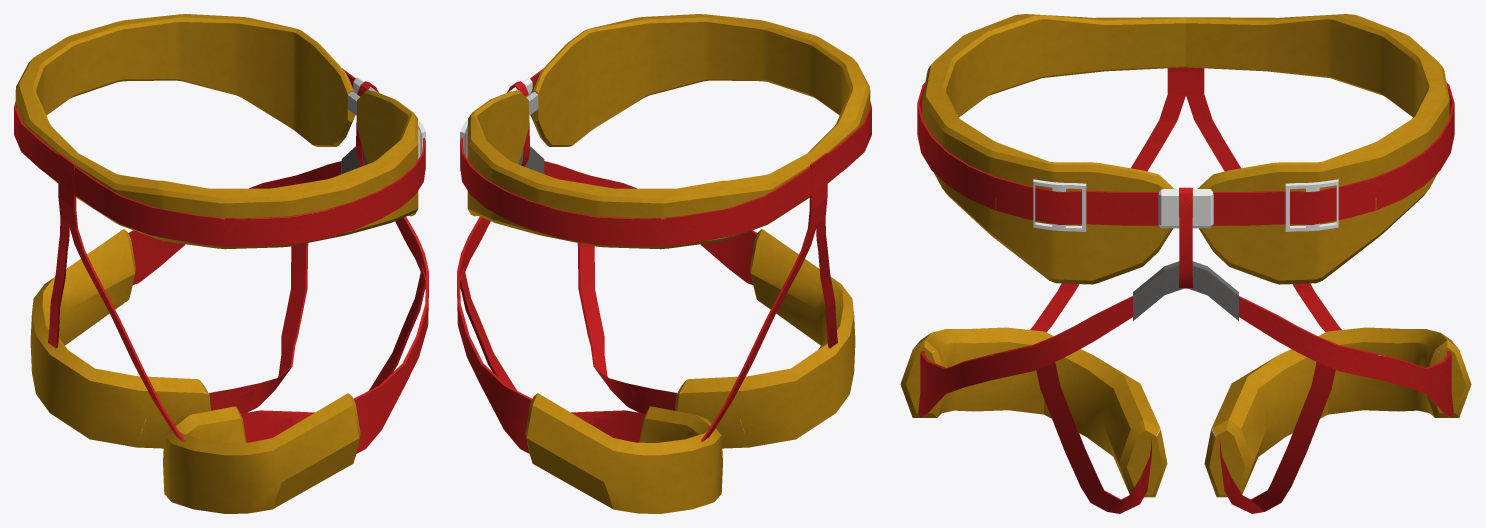
The model's file is Harness.fbx.
The picture shows the model from 3 angles, left to right: view 1: azimuth 30°, elevation 25°; view 2: azimuth 150°, elevation 25°; view 3: azimuth 270°, elevation 25°; orthographic projection. The views are drawn at different scales.
Parts seen in each view (by area): view 1: Cube, Torus.001, Cube.002, Cube.008, Cube.007, Plane; view 2: Cube, Torus.001, Cube.002, Cube.008, Cube.007, Plane; view 3: Cube, Torus.001, Cube.002, Cube.007, Cube.008, Plane, Cube.005, Cube.003, Cube.001, Torus.
Part boxes in pixels (left/top/right/bottom): Cube: left=15, top=14, right=418, bottom=249; Torus.001: left=30, top=229, right=360, bottom=513; Cube.002: left=14, top=68, right=425, bottom=246; Cube.008: left=209, top=183, right=425, bottom=442; Cube.007: left=128, top=161, right=428, bottom=453; Plane: left=48, top=153, right=184, bottom=441; Cube: left=467, top=14, right=870, bottom=249; Torus.001: left=525, top=229, right=855, bottom=513; Cube.002: left=460, top=68, right=871, bottom=246; Cube.008: left=460, top=183, right=676, bottom=442; Cube.007: left=457, top=161, right=757, bottom=453; Plane: left=701, top=153, right=837, bottom=441; Cube: left=922, top=14, right=1449, bottom=284; Torus.001: left=900, top=327, right=1471, bottom=497; Cube.002: left=917, top=82, right=1454, bottom=225; Cube.007: left=918, top=296, right=1453, bottom=416; Cube.008: left=1036, top=362, right=1335, bottom=513; Plane: left=1030, top=67, right=1341, bottom=332; Cube.005: left=1133, top=261, right=1238, bottom=320; Cube.003: left=1033, top=179, right=1338, bottom=231; Cube.001: left=1158, top=189, right=1213, bottom=228; Torus: left=1179, top=187, right=1192, bottom=288.
Bounding box in the file's own units: 29.63 × 32.22 × 40.26.
Materials: 1 (1 with a texture image).
